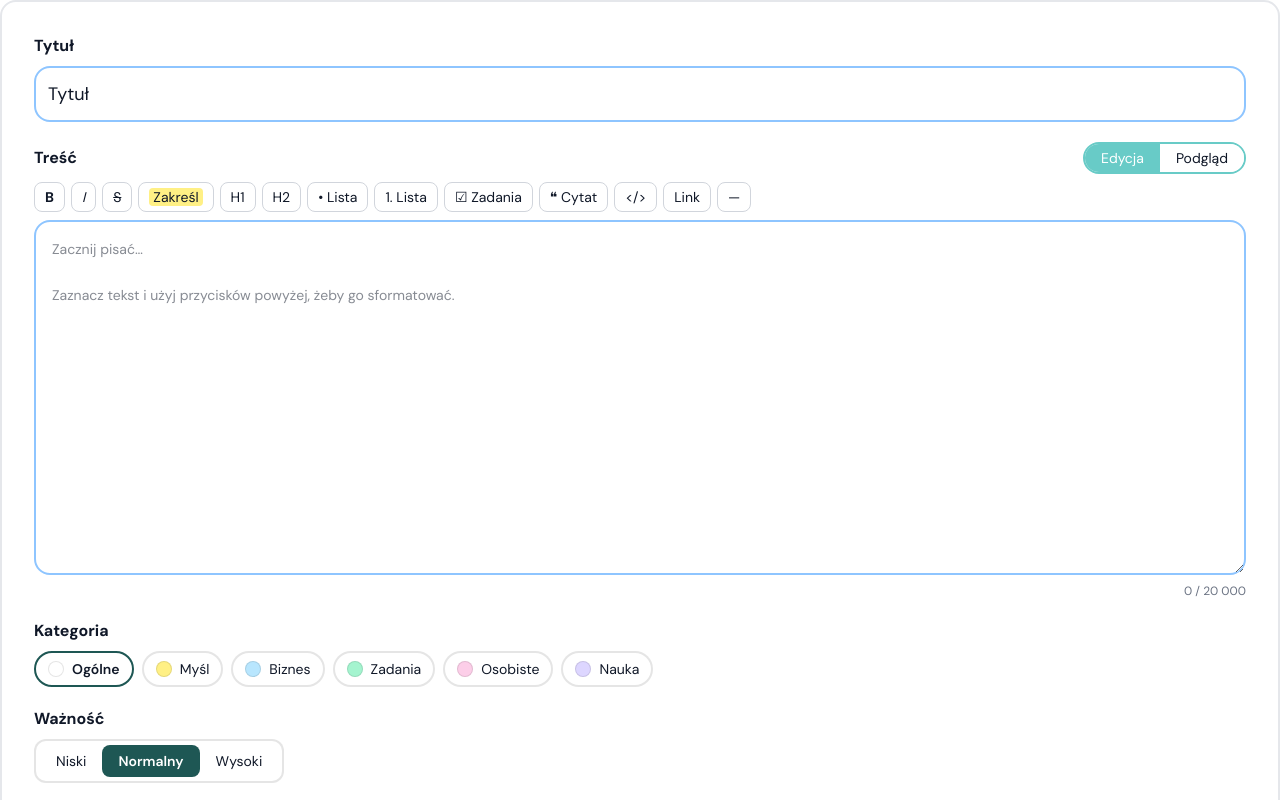
Test: NoteEditor — pasek formatowania › link ma osobne znaczniki przed i po
Click the button titled "Link": click(687, 197) [663,182,711,212]
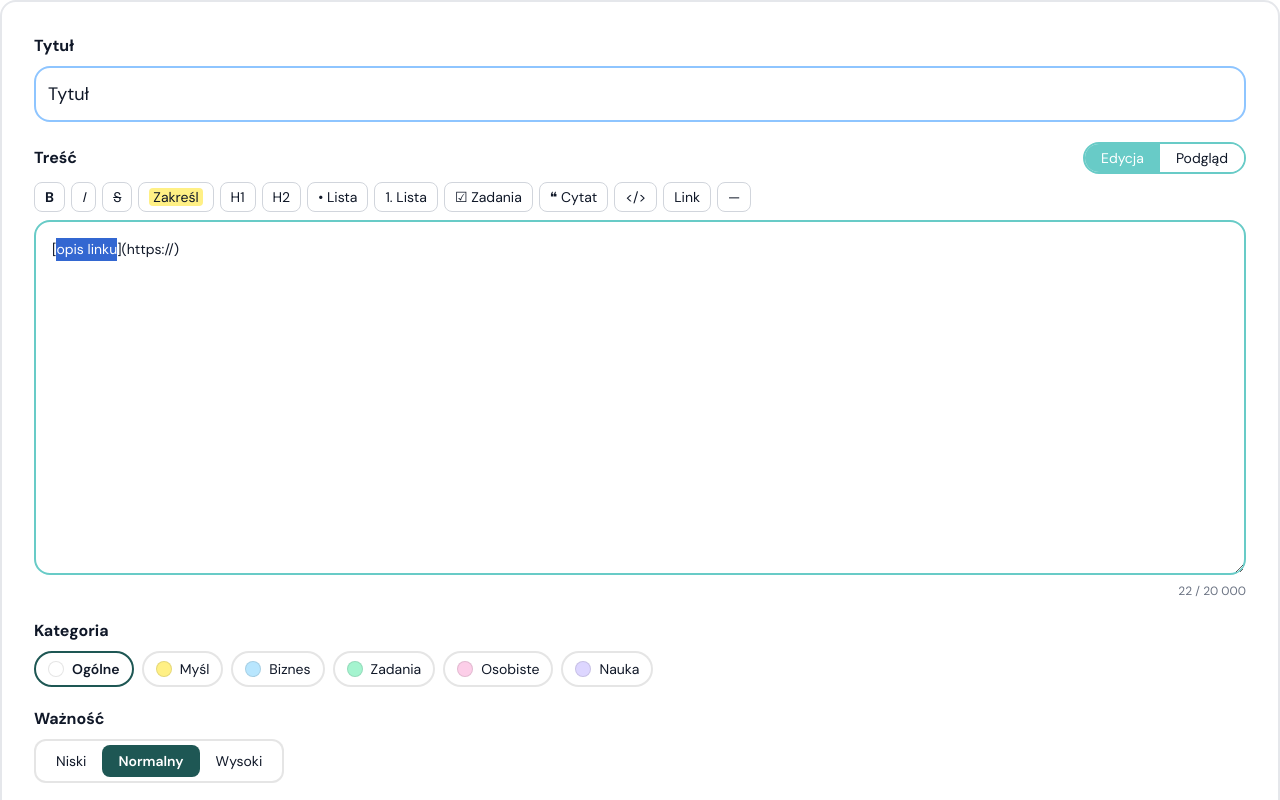
Now the text box with placeholder "Zacznij pisać" holds "[opis linku](https://)", box [34,220,1246,574]
